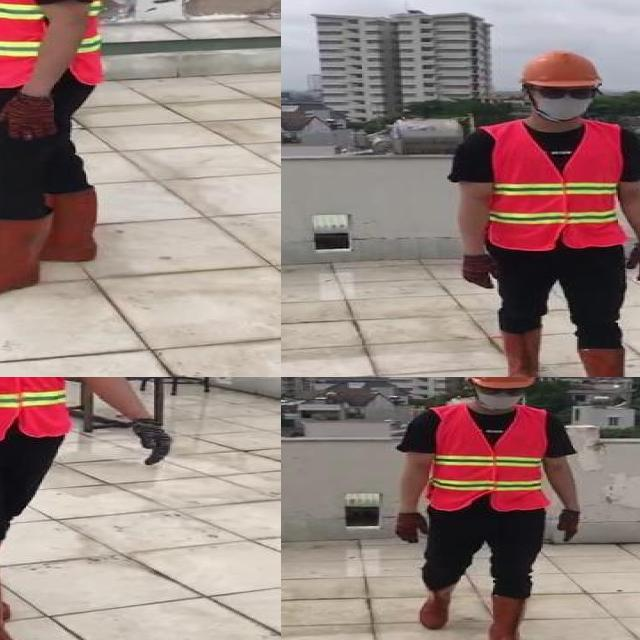boots: (38, 190, 95, 263), (0, 215, 41, 302), (0, 567, 36, 640), (495, 328, 545, 377), (488, 591, 534, 640), (575, 346, 640, 377), (418, 581, 456, 630)
face_mask: (534, 85, 598, 122), (472, 380, 528, 412)
glasses: (534, 83, 600, 102), (472, 382, 534, 399)
hand_glove: (0, 93, 57, 139), (128, 418, 174, 467), (458, 254, 499, 289), (393, 513, 429, 543), (557, 510, 582, 543), (628, 243, 640, 280)
head_helmet: (511, 48, 611, 94), (462, 377, 537, 390)
person: (444, 48, 640, 377), (382, 377, 592, 640), (0, 377, 187, 640), (0, 0, 113, 309)
vest: (486, 122, 627, 250), (427, 404, 548, 511), (0, 0, 111, 85)
